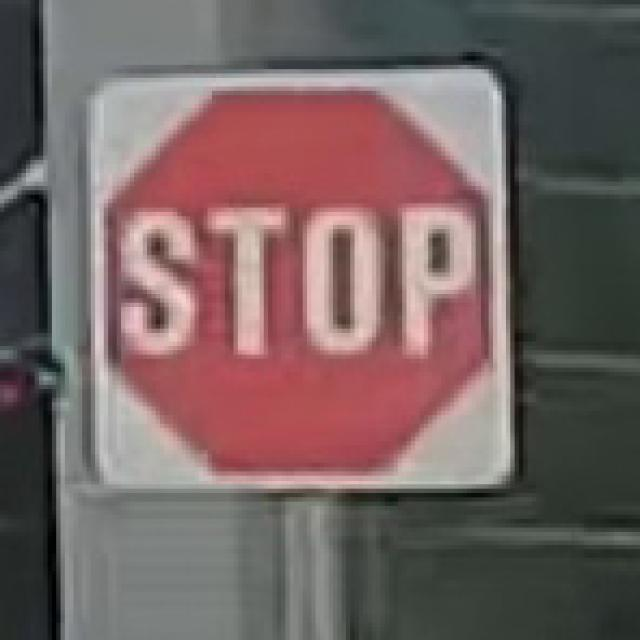mandatorystop_sign: (78, 61, 519, 493)
